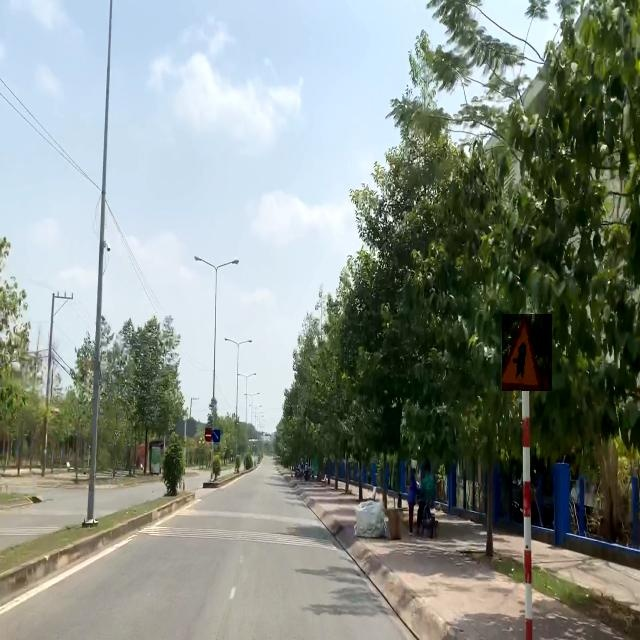bien_hieu_lenh: (502, 314, 552, 391), (205, 428, 212, 442), (212, 430, 220, 442)
